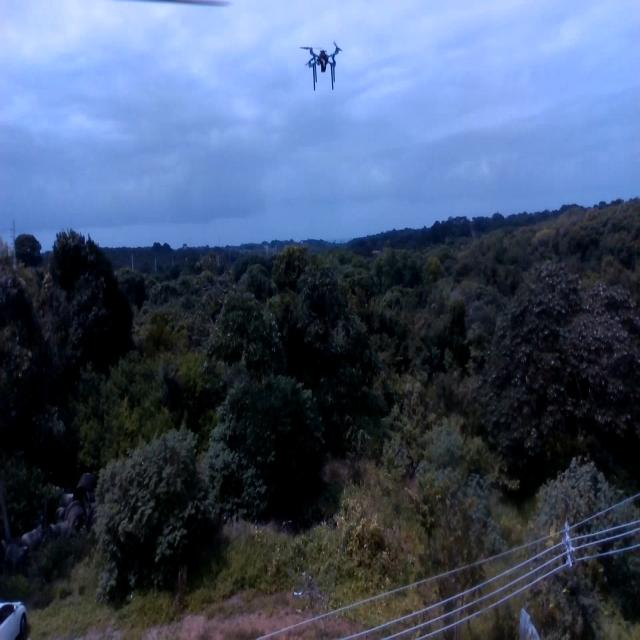-uav-: (294, 35, 348, 95)
